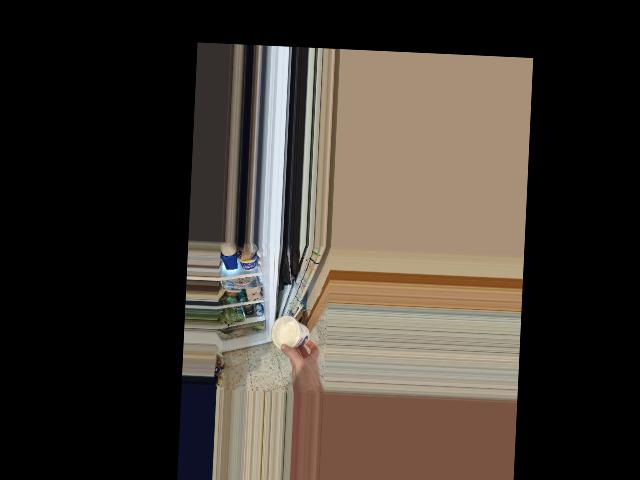cotage: (272, 315, 310, 349)
